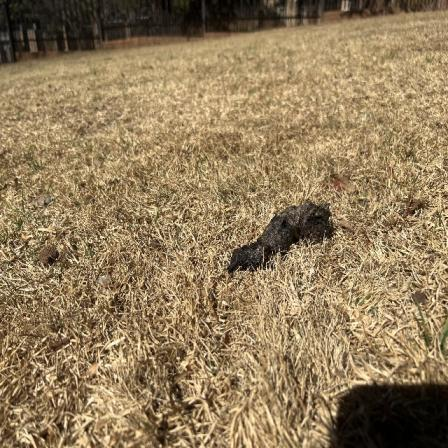dog-poop: (234, 192, 346, 270)
